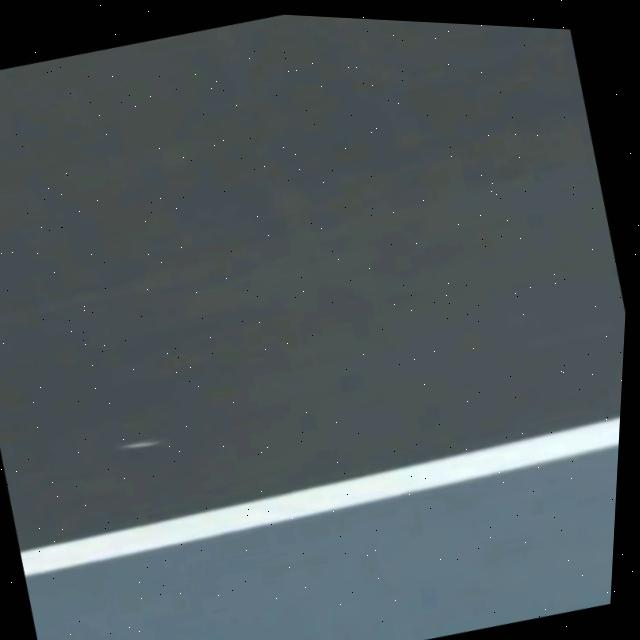left: (19, 416, 620, 577)
